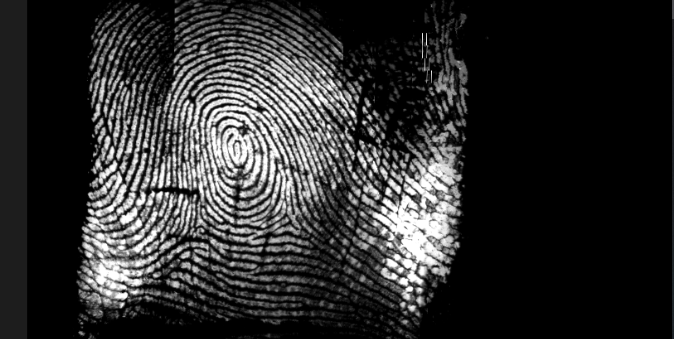nucelo: (216, 126, 251, 168)
verticilo: (181, 211, 210, 233), (270, 206, 301, 224)
